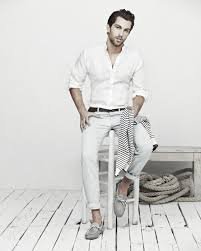F_belt: (83, 103, 139, 115)
